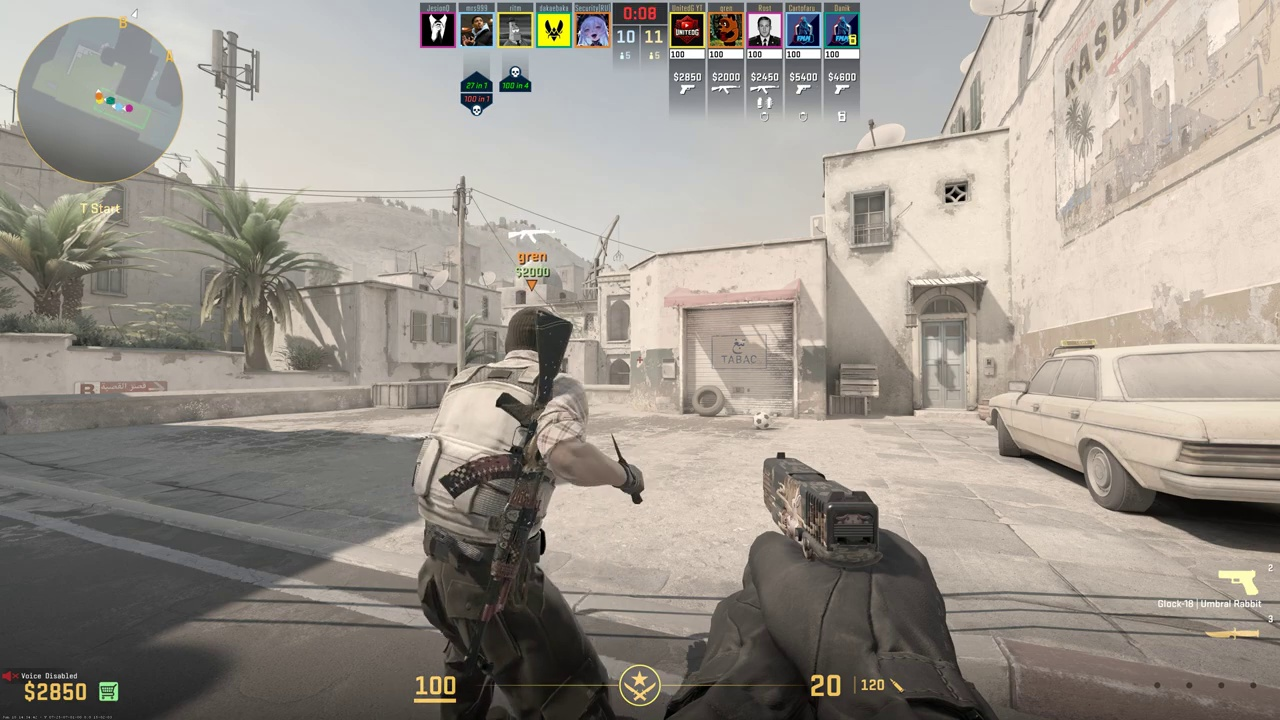Terrorist: (417, 309, 605, 715)
